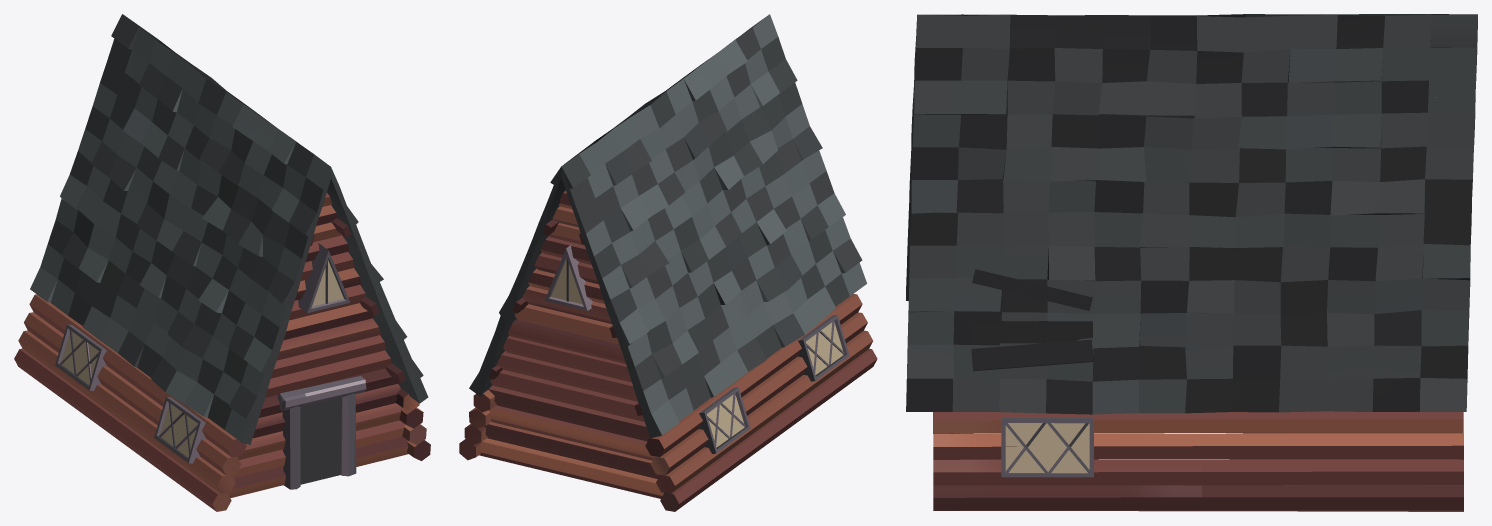
The model's file is F_Chata_03.fbx.
3 views of the same model, side by side, from view 1: azimuth 30°, elevation 25°; view 2: azimuth 150°, elevation 25°; view 3: azimuth 270°, elevation 25° (orthographic). The views are drawn at different scales.
Parts seen in each view (by area): view 1: F_domek_03; view 2: F_domek_03; view 3: F_domek_03.
Part boxes in pixels (x1,y1,x2,y2): F_domek_03: (14,14,430,511); F_domek_03: (459,14,877,511); F_domek_03: (906,14,1477,511).
Bounding box in the file's own units: 184 × 258 × 308.
